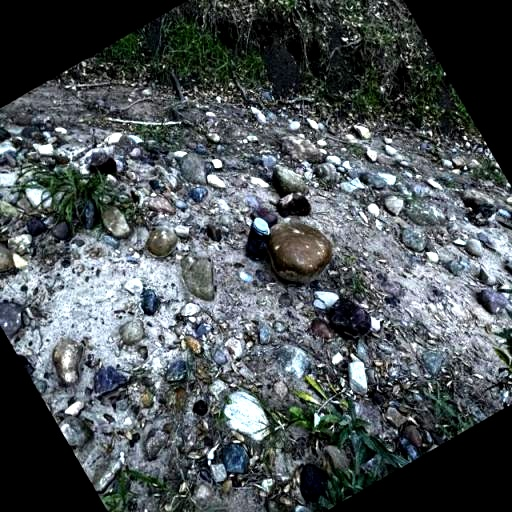bottle: (234, 215, 282, 264)
